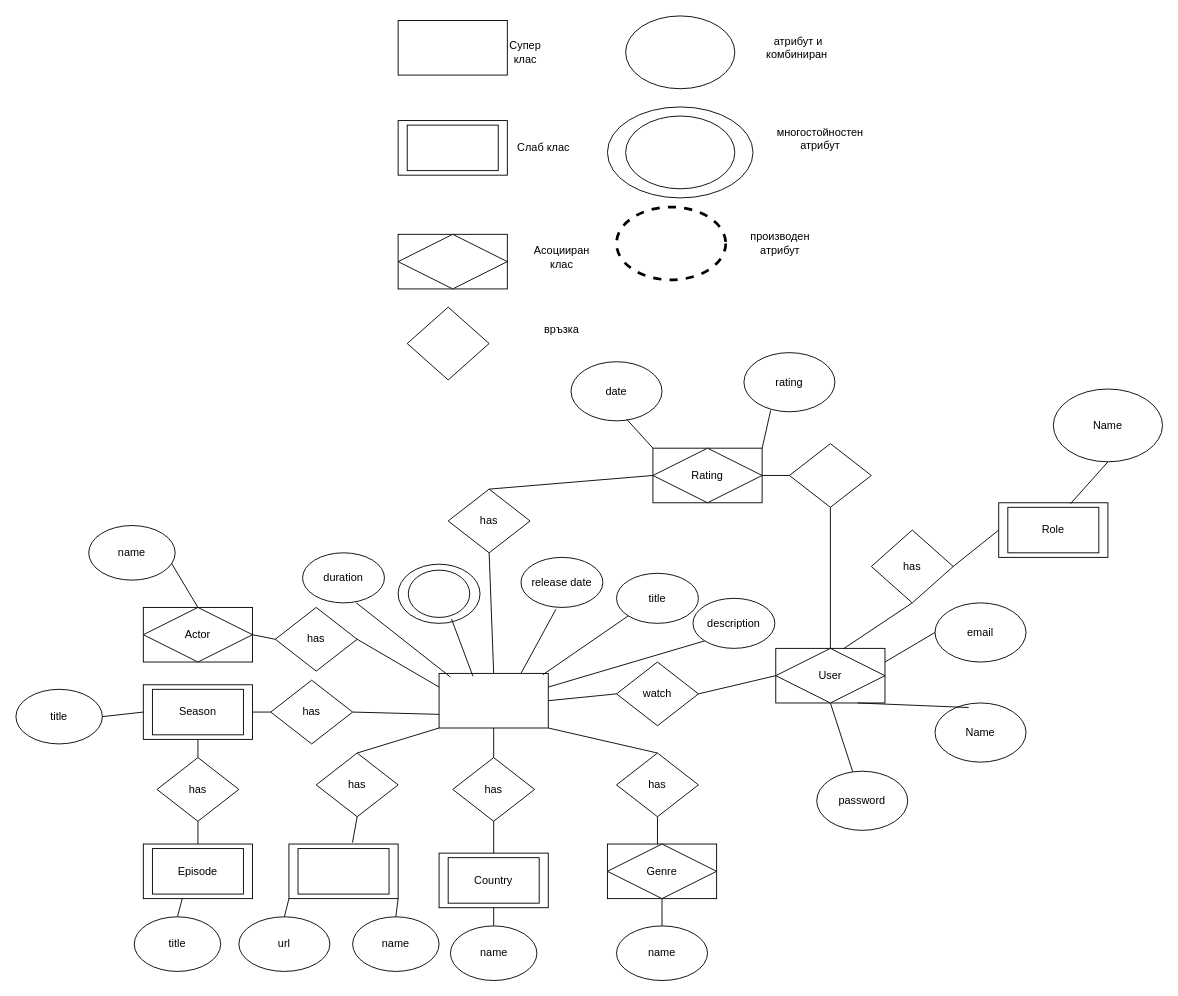
Image size: 1178x996. Some labels were removed from this diagram. Each missing label, with the centre of its shape:
"content type" belongs at (438,593).
"made" belongs at (830,475).
"Movie" belongs at (493,700).
"Server" belongs at (343,871).
